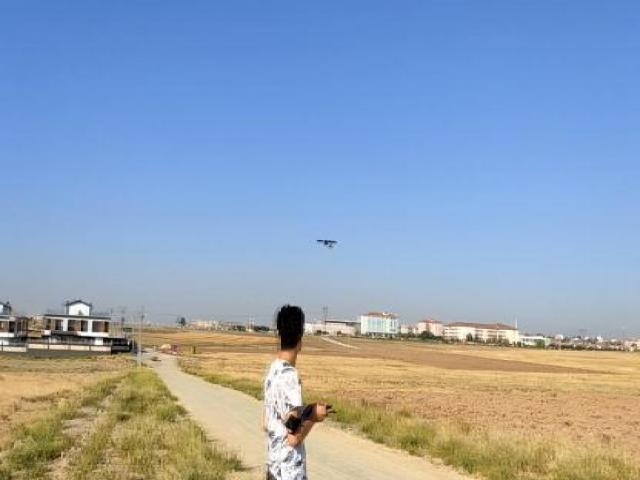uav: (313, 231, 342, 252)
